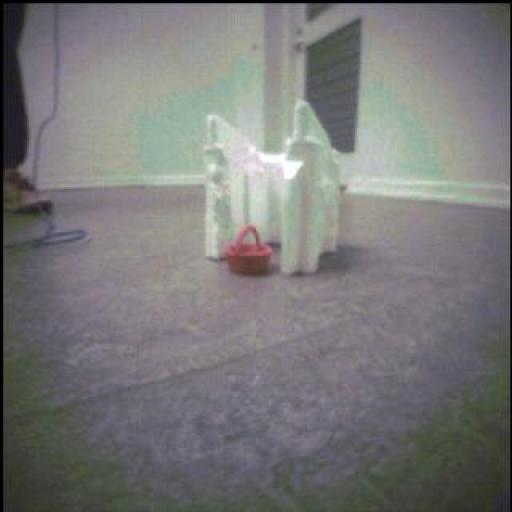Bucket: (227, 227, 273, 276)
